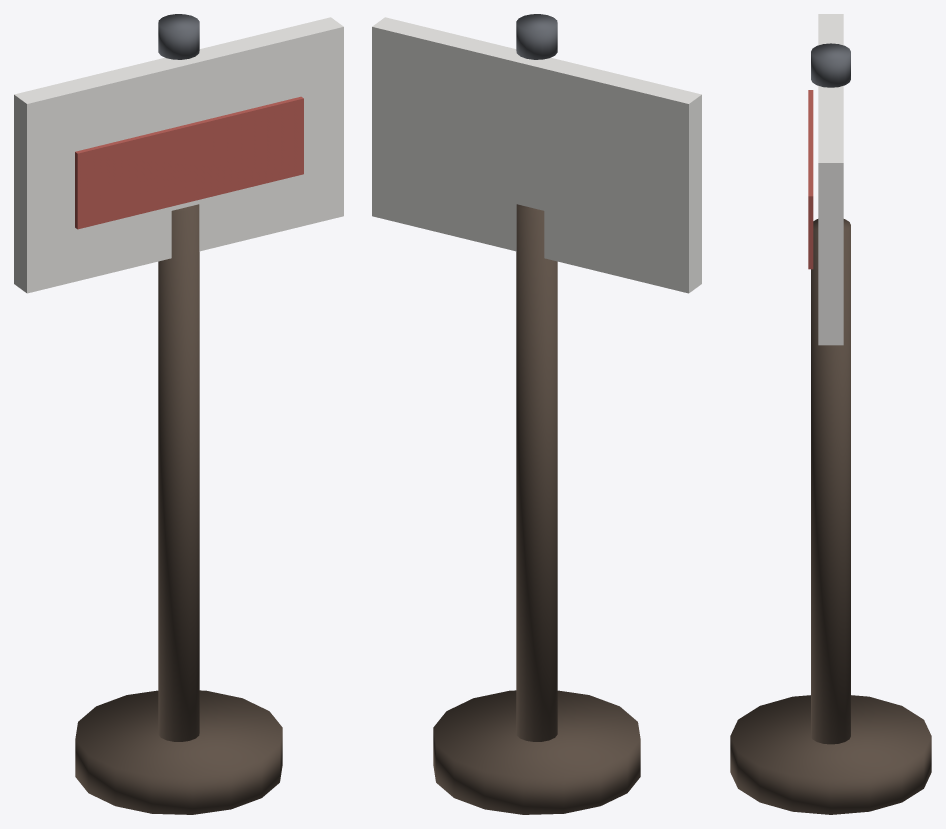
File: prop_tate_fuda_close.glb
The picture shows the model from 3 angles, left to right: view 1: azimuth 30°, elevation 25°; view 2: azimuth 150°, elevation 25°; view 3: azimuth 270°, elevation 25°; orthographic projection. The views are drawn at different scales.
Parts seen in each view (by area): view 1: tate_fuda_close; view 2: tate_fuda_close; view 3: tate_fuda_close.
Boxes of the visible parts, x1=… form: tate_fuda_close: x1=14, y1=14, x2=343, y2=814; tate_fuda_close: x1=372, y1=14, x2=701, y2=814; tate_fuda_close: x1=730, y1=14, x2=931, y2=814.
Size of the model in its own units: 0.7 by 1.58 by 0.4.
